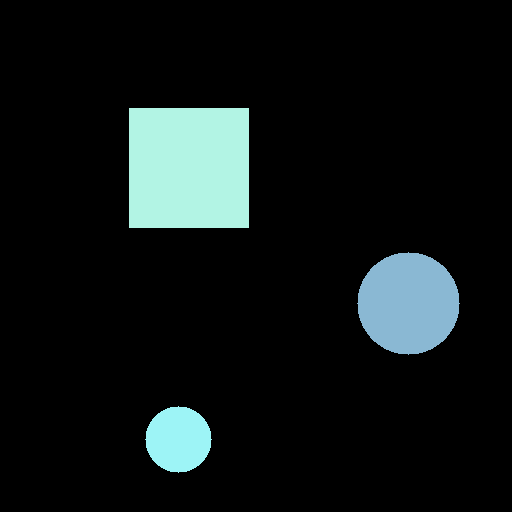circle: (357, 252, 459, 354), (145, 406, 211, 472)
square: (129, 108, 248, 227)
